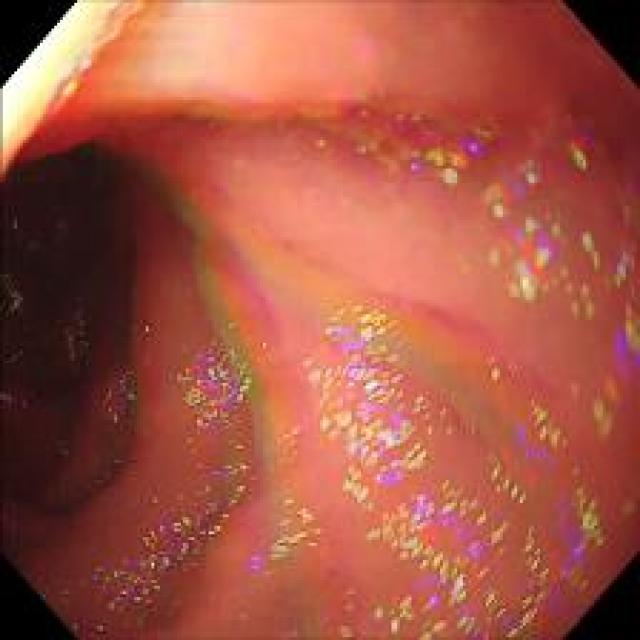color misalignment: (320, 105, 588, 210), (189, 246, 275, 502), (411, 308, 552, 454), (328, 315, 426, 505), (179, 336, 264, 548), (74, 508, 222, 624), (375, 472, 505, 580), (512, 516, 594, 631), (478, 206, 568, 306), (605, 232, 638, 438), (248, 486, 319, 578), (579, 308, 632, 431), (358, 580, 465, 632), (512, 375, 575, 454), (564, 461, 616, 546), (94, 365, 151, 432), (52, 291, 96, 375), (12, 244, 34, 345), (574, 221, 610, 280), (479, 584, 512, 635)
contrast: (2, 132, 175, 545)
saturation: (0, 12, 121, 129)
specularity: (316, 300, 454, 558), (172, 330, 248, 431), (458, 485, 506, 548), (370, 604, 446, 638), (531, 396, 565, 455), (522, 216, 552, 269), (514, 256, 538, 306), (485, 354, 515, 390), (579, 229, 599, 268), (439, 165, 459, 188), (490, 199, 506, 218)
